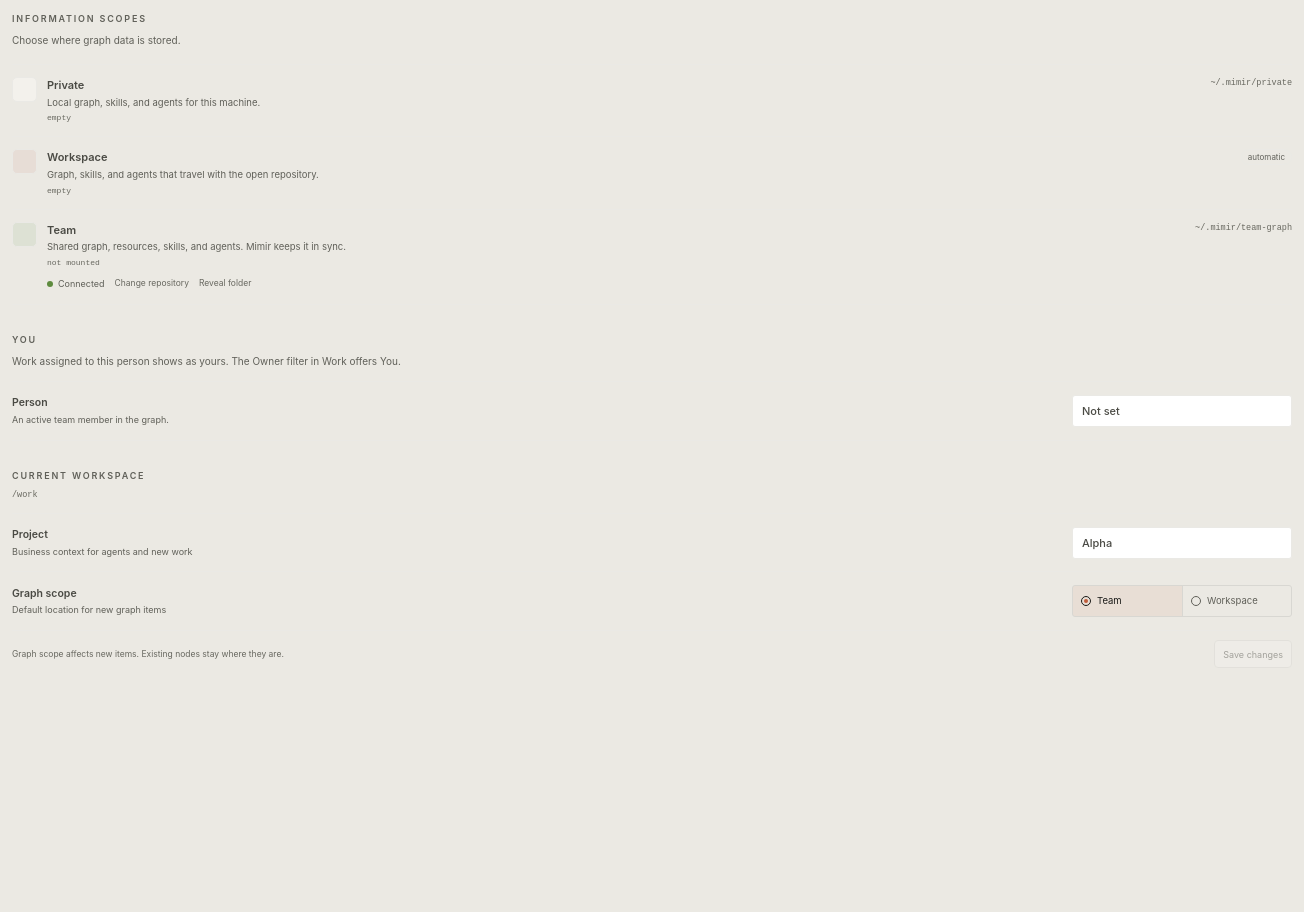
Test: graph settings › edits the rare workspace link in Graph settings
The image size is (1304, 912).
Click the dropdown labelled "Alpha" at (1182, 543), box [1072,527,1292,559]
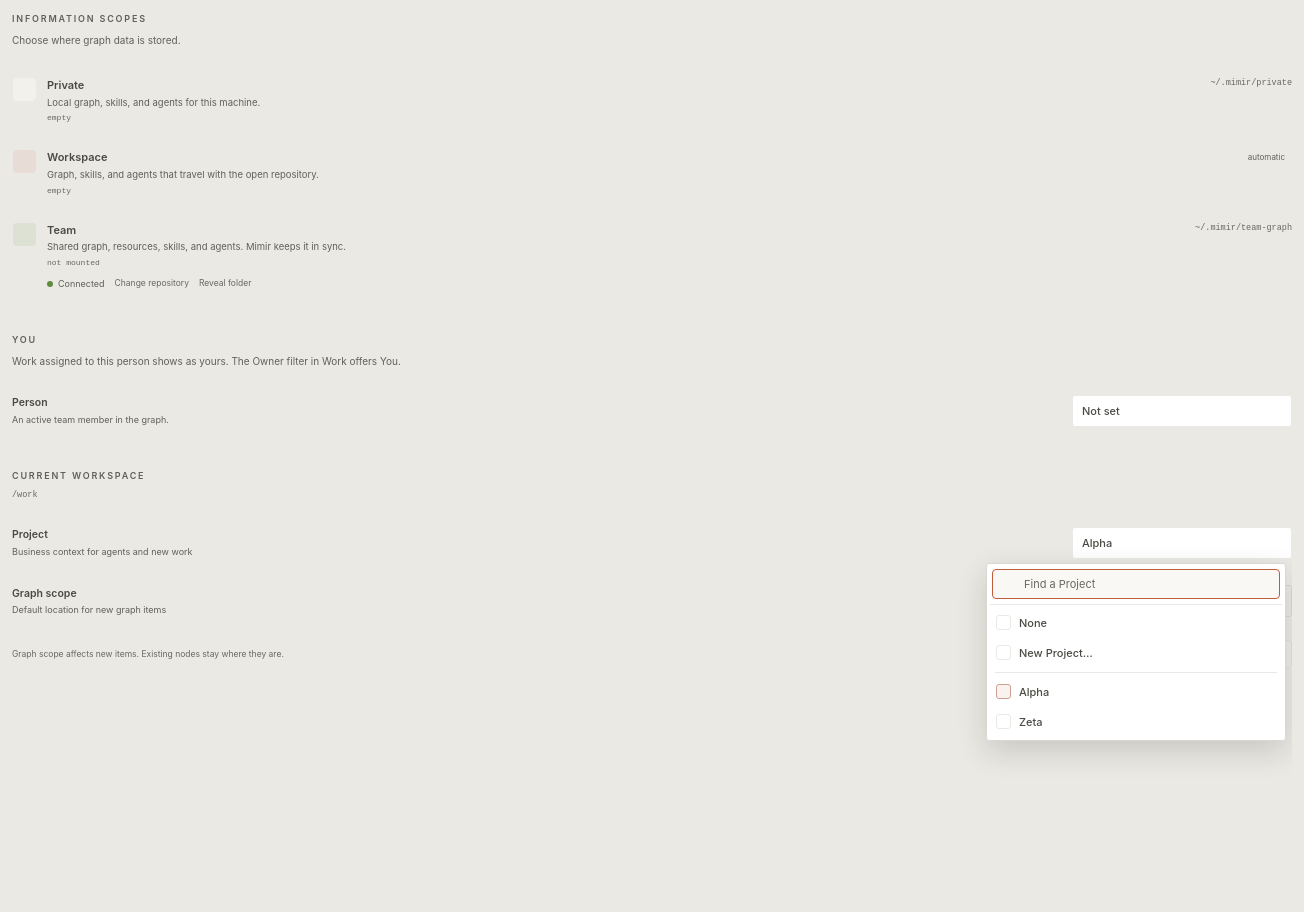
Click the dropdown labelled "Alpha" at (1182, 543), box [1072,527,1292,559]
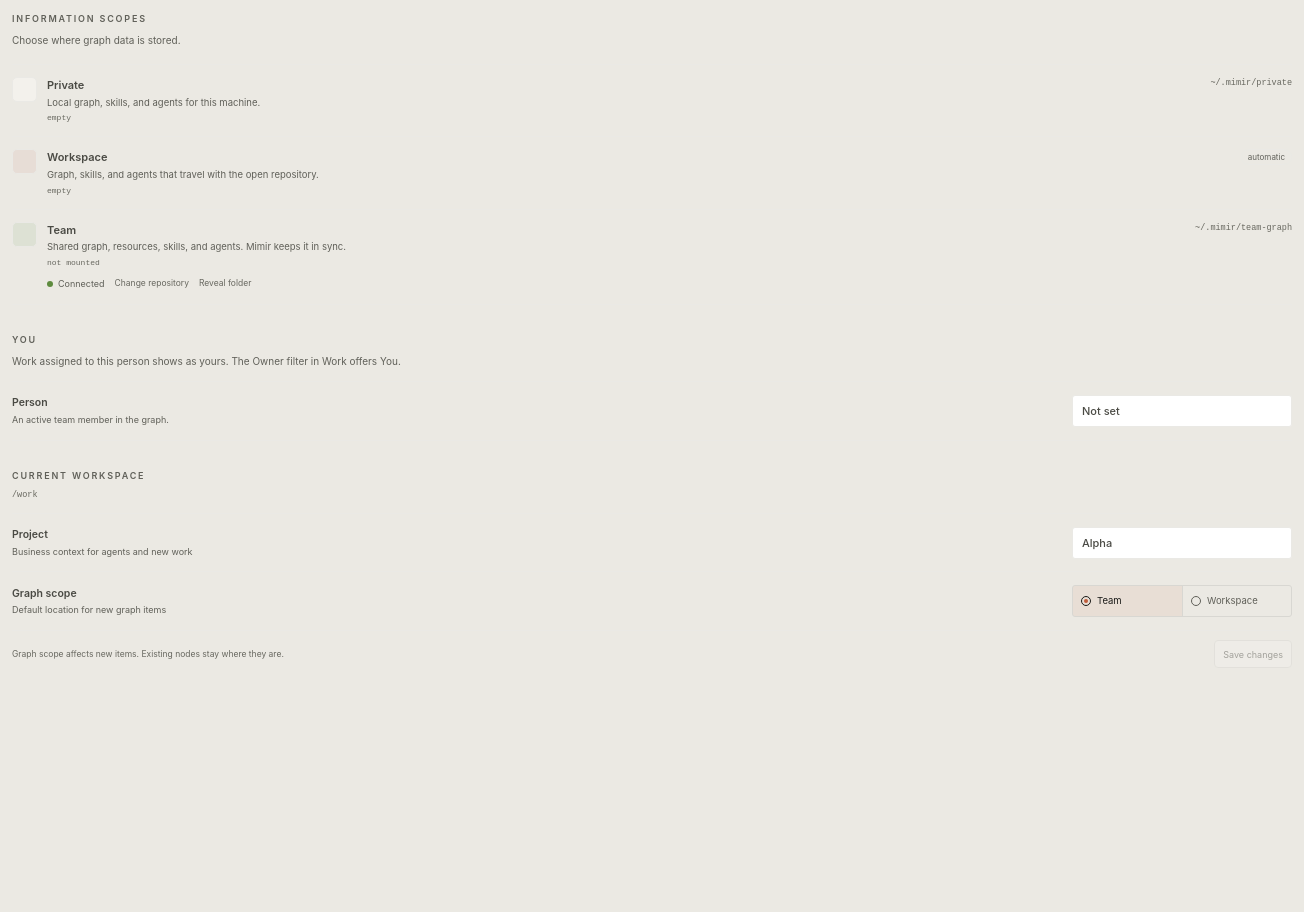
Click the radio button labelled "Workspace" at (1236, 601), box [1182,586,1291,616]
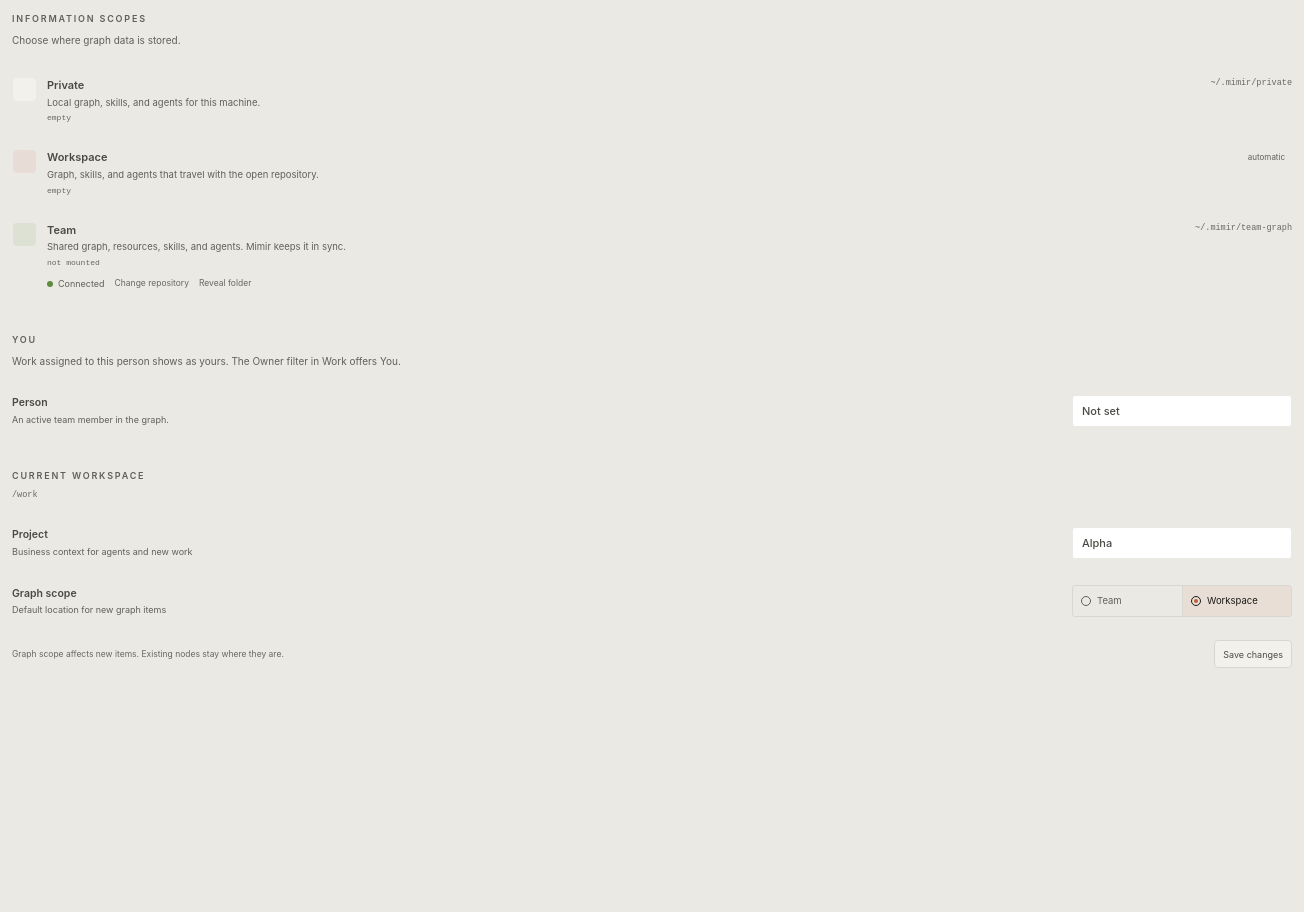
Click the button "Save changes" at (1253, 654), box [1214,640,1292,668]
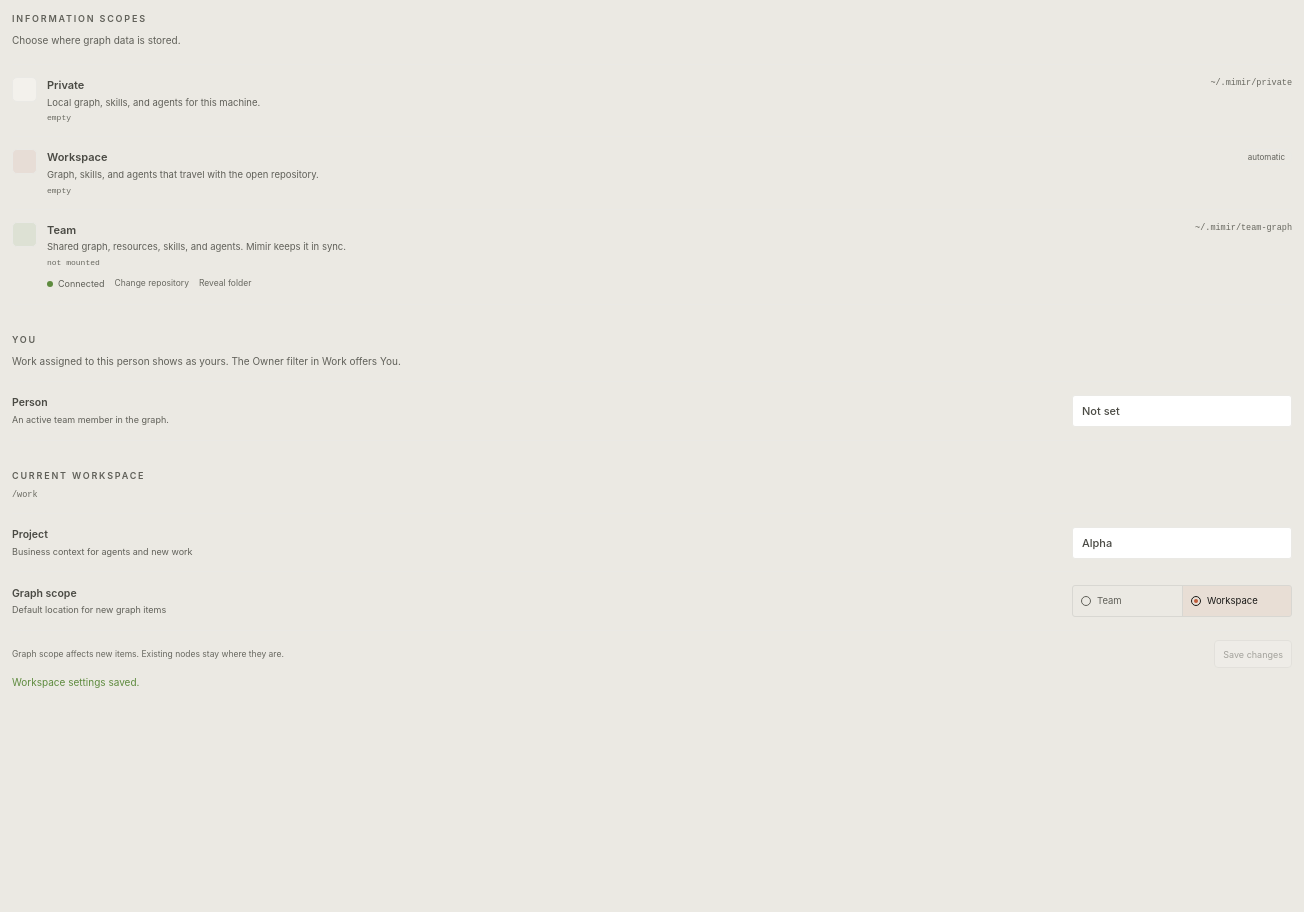
Result: the text "Workspace settings saved." is shown at [12,676,139,688]
